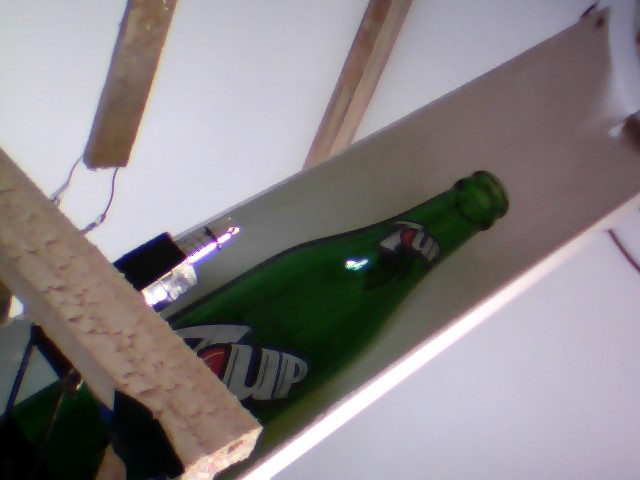vidrio: (173, 159, 519, 426)
